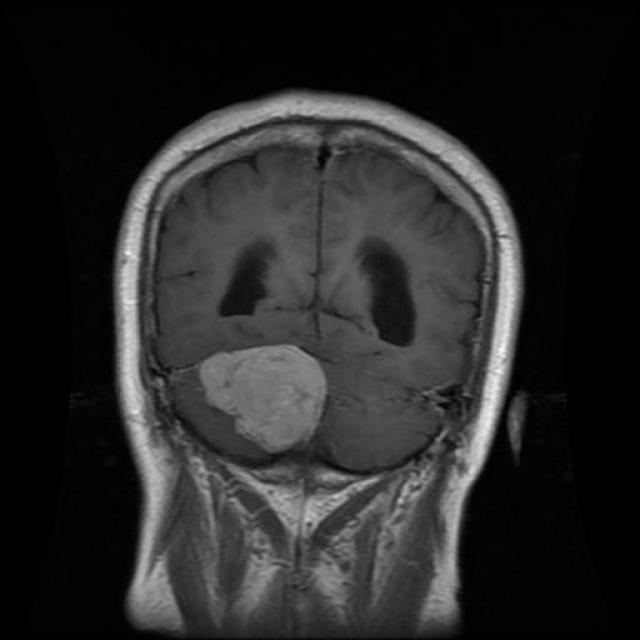Tumor: (190, 340, 332, 451)
